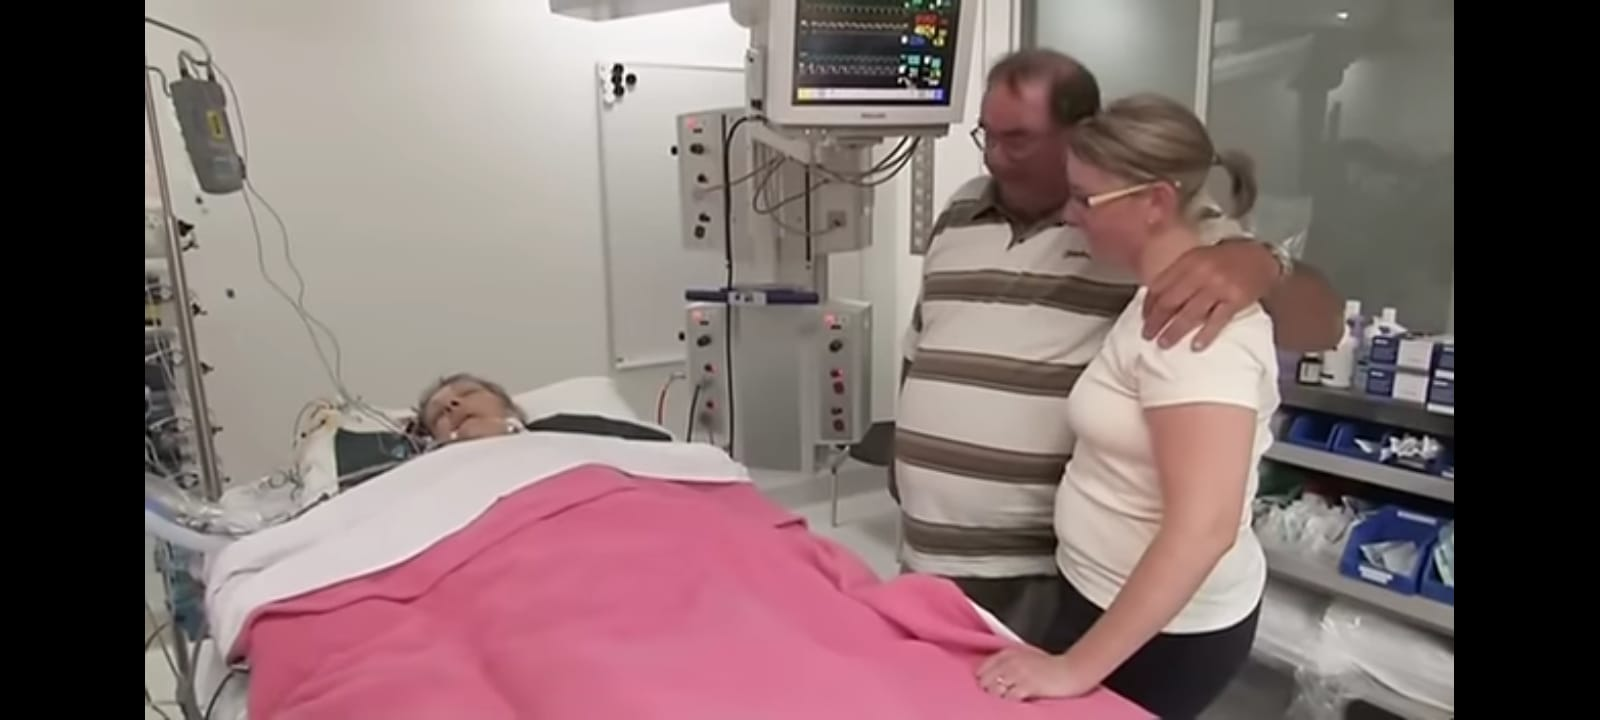patient: (378, 372, 641, 720)
person: (967, 85, 1285, 709), (891, 48, 1099, 642)
